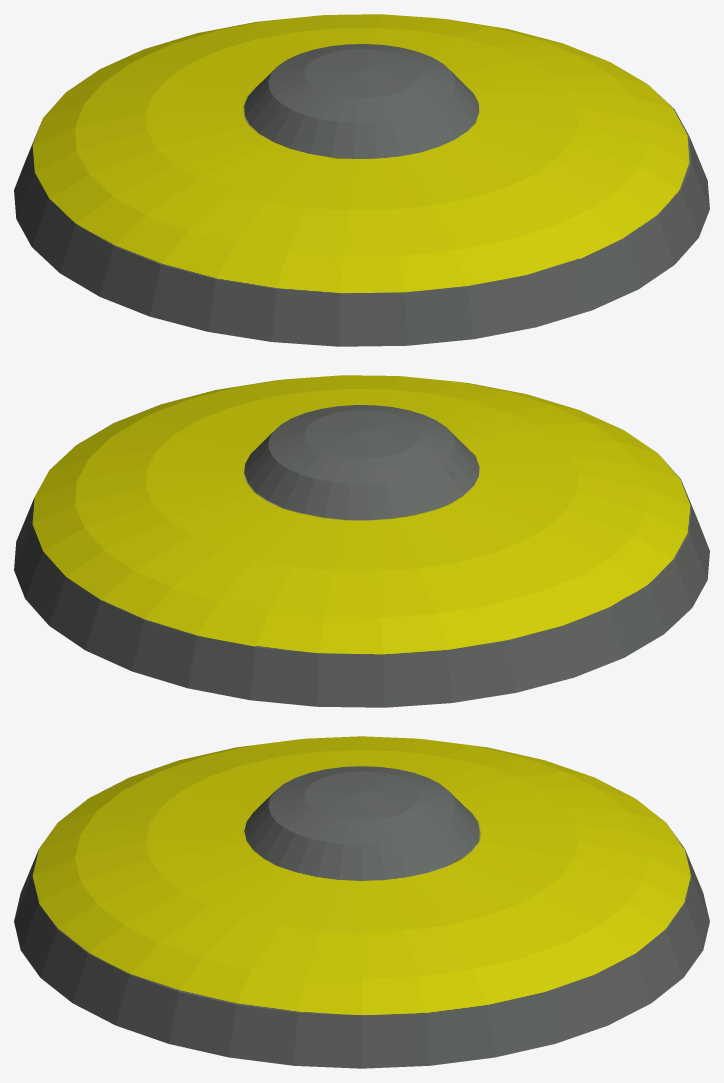
Rendered from Noteblocks.fbx.
The picture shows the model from 3 angles, top to bottom: view 1: azimuth 30°, elevation 25°; view 2: azimuth 150°, elevation 25°; view 3: azimuth 270°, elevation 25°; orthographic projection.
Parts seen in each view (by area): view 1: Cylinder; view 2: Cylinder; view 3: Cylinder.
Boxes of the visible parts, left/top/right/bottom form: Cylinder: left=14, top=14, right=709, bottom=346; Cylinder: left=14, top=375, right=709, bottom=707; Cylinder: left=14, top=736, right=709, bottom=1068.
Bounding box in the file's own units: 211 × 43.48 × 211.
